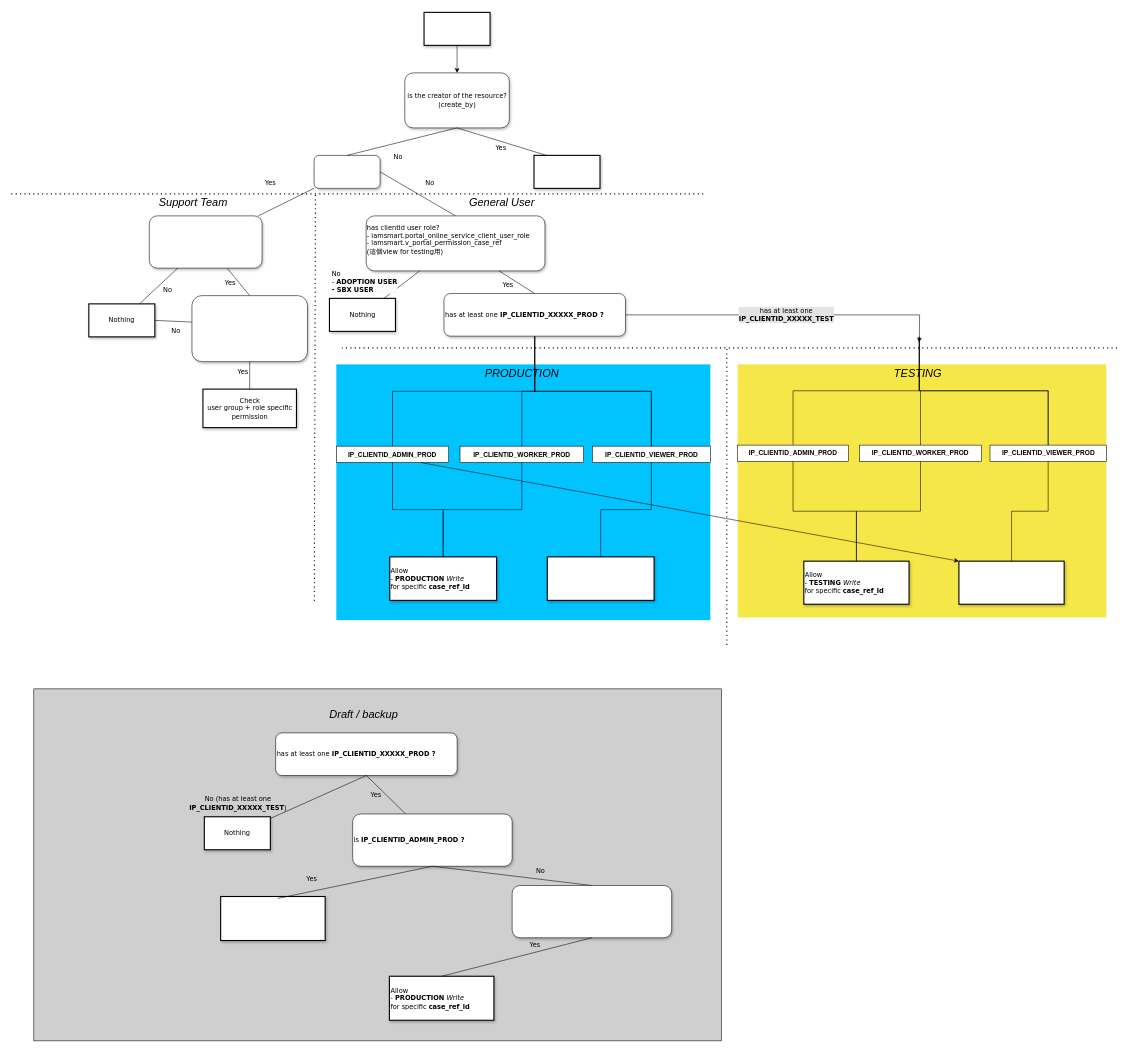
Some shapes in this 1128 by 1051 pixel diagram are drawn without their labels. Here are the shapes that lost their labels. From the top down, the centre of each, then its label:
At (457,29): "Start checking permission".
At (347,172): "is Support type? (SUPPORT/AUDIT)".
At (567,172): "Allow access".
At (206,242): "has related support role and ENV? (iamsmart.portal_role_member)".
At (250,329): "has user group (BD/NBD support)? (iamsmart.portal_user_group)".
At (601,579): "Allow - PRODUCTION Read Only for specific case_ref_id".
At (1012,583): "Allow - TESTING Read Only for specific case_ref_id".
At (273,919): "Allow - PRODUCTION Write - TESTING Read for specific case_ref_id".
At (592,912): "is IP_CLIENTID_WORKER_PROD ?".
